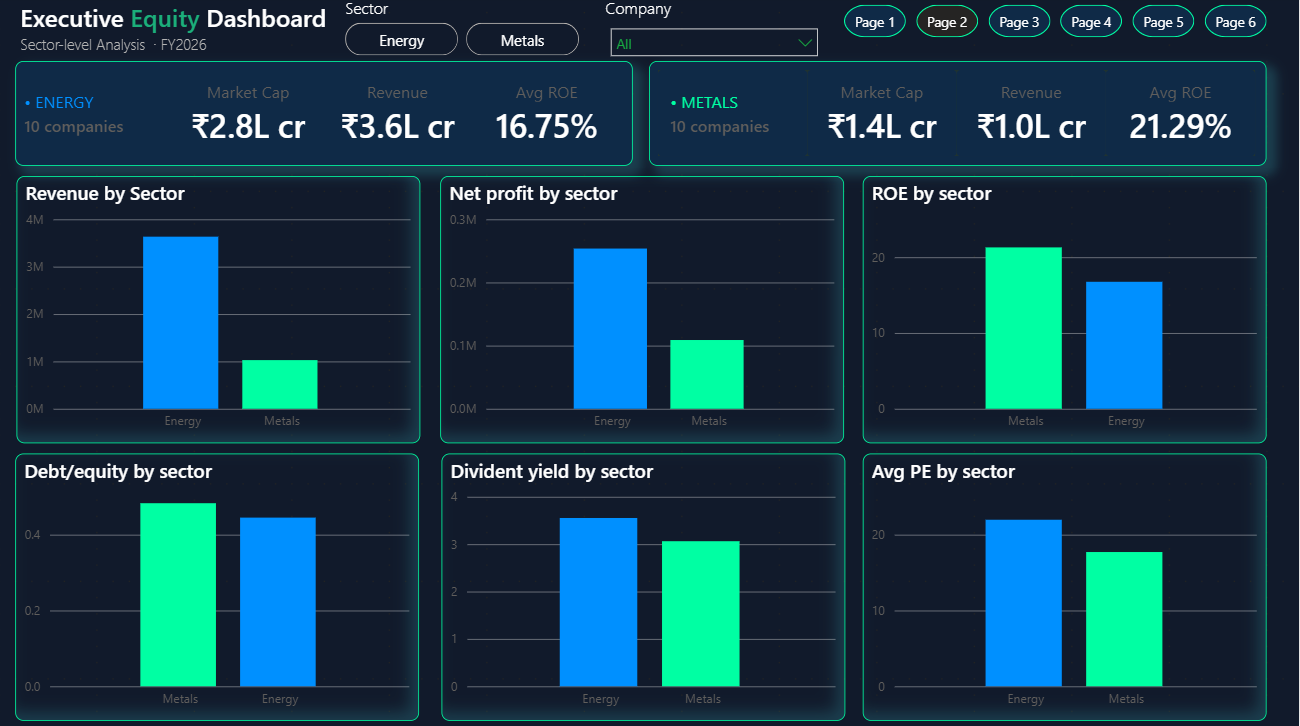

This screenshot's page, from the dashboard's own definition file:
{"tool":"powerbi","page":{"name":"Page 2","canvas":[1280,720],"ordinal":1},"visuals":[{"type":"textbox","box":[16,0,448,80],"z":0},{"type":"advancedSlicerVisual","fields":{"Values":["Company (Company_Master).Sector"]},"box":[336,0,240,64],"z":1000},{"type":"slicer","title":"Company","fields":{"Values":["Company (Company_Master).Company"]},"box":[592,0,224,64],"z":2000},{"type":"shape","box":[640,64,608,103.4],"z":3000},{"type":"cardVisual","fields":{"Data":["Company (Company_Master).Companies Count Text","Company (Company_Master).energy total market cap","Company (Company_Master).energy total revenue","Company (Company_Master).Energy Avg ROE"]},"box":[16.2,63.6,608,103.5],"z":4000},{"type":"cardVisual","fields":{"Data":["Company (Company_Master).metals company text","Company (Company_Master).metals total market cap","Company (Company_Master).metals total revenue","Company (Company_Master).metals avg roe"]},"box":[640,64,608,103.4],"z":5000},{"type":"clusteredColumnChart","title":"Revenue by Sector","fields":{"Category":["Company (Company_Master).Sector"],"Y":["Company (Company_Master).total revenue"]},"box":[17.2,177.2,397.5,263.4],"z":6000},{"type":"clusteredColumnChart","title":"Divident yield by sector","fields":{"Category":["Company (Company_Master).Sector"],"Y":["Avg(Company (Company_Master).Dividend Yield (%age))"]},"box":[435.7,450.5,397.5,263.4],"z":7000},{"type":"clusteredColumnChart","title":"Net profit by sector","fields":{"Category":["Company (Company_Master).Sector"],"Y":["Company (Company_Master).total profit"]},"box":[434.5,177.2,397.5,263.4],"z":8000},{"type":"clusteredColumnChart","title":"Avg PE by sector","fields":{"Category":["Company (Company_Master).Sector"],"Y":["Company (Company_Master).avg PE"]},"box":[850.5,450.5,397.5,263.4],"z":9000},{"type":"clusteredColumnChart","title":"ROE by sector","fields":{"Category":["Company (Company_Master).Sector"],"Y":["Company (Company_Master).avg ROE"]},"box":[850.5,177.2,397.5,263.4],"z":10000},{"type":"clusteredColumnChart","title":"Debt/equity by sector","fields":{"Category":["Company (Company_Master).Sector"],"Y":["Avg(Company (Company_Master).Debt/Equity)"]},"box":[16,450.5,397.5,263.4],"z":11000},{"type":"pageNavigator","box":[832,8.6,416,32],"z":12000}]}

Visuals, with their boxes in screenshot pixels (x1, y1, x2, y2), scaled from the page's 1280x720 canvas onto the 1300x726 screenshot:
textbox: bbox=[16, 0, 471, 81]
advancedSlicerVisual - Company (Company_Master).Sector: bbox=[341, 0, 585, 65]
"Company" slicer: bbox=[601, 0, 829, 65]
shape: bbox=[650, 65, 1268, 169]
cardVisual - Company (Company_Master).Companies Count Text x Company (Company_Master).energy total market cap: bbox=[16, 64, 634, 168]
cardVisual - Company (Company_Master).metals company text x Company (Company_Master).metals total market cap: bbox=[650, 65, 1268, 169]
"Revenue by Sector" clusteredColumnChart: bbox=[17, 179, 421, 444]
"Divident yield by sector" clusteredColumnChart: bbox=[443, 454, 846, 720]
"Net profit by sector" clusteredColumnChart: bbox=[441, 179, 845, 444]
"Avg PE by sector" clusteredColumnChart: bbox=[864, 454, 1268, 720]
"ROE by sector" clusteredColumnChart: bbox=[864, 179, 1268, 444]
"Debt/equity by sector" clusteredColumnChart: bbox=[16, 454, 420, 720]
pageNavigator: bbox=[845, 9, 1268, 41]
